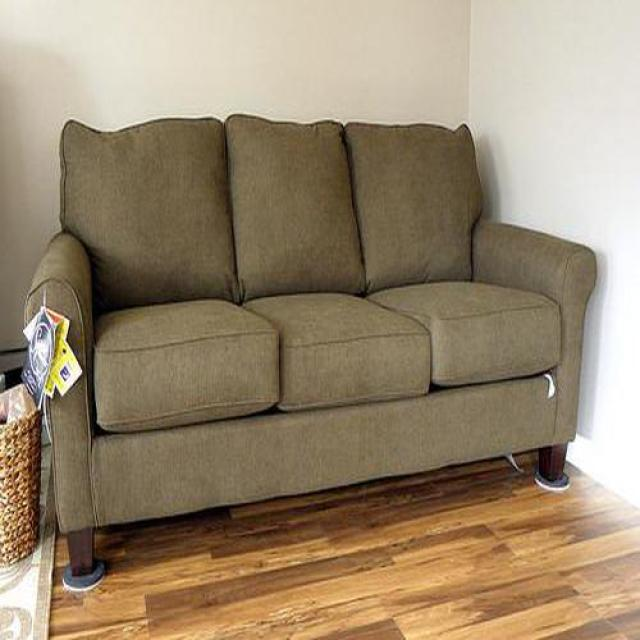sofa: (23, 115, 598, 593)
